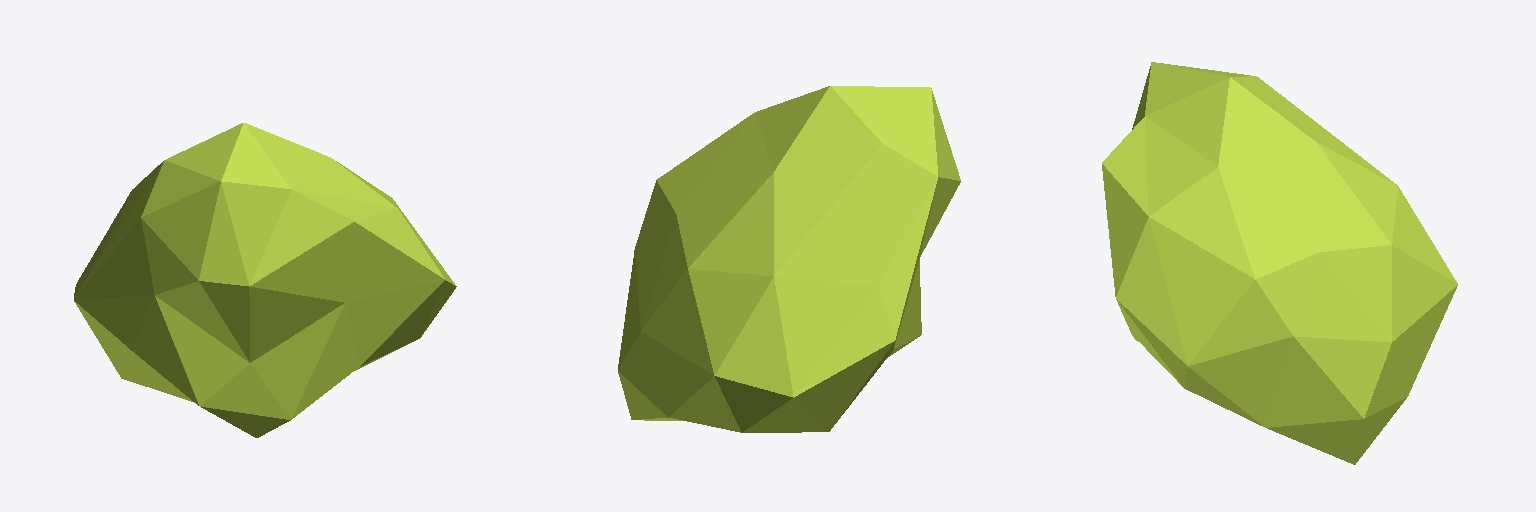
The model's file is Rock8.obj.
3 renders of one model, left to right at view 1: azimuth 30°, elevation 25°; view 2: azimuth 150°, elevation 25°; view 3: azimuth 270°, elevation 25°, orthographic.
Parts seen in each view (by area): view 1: GeoSphere001; view 2: GeoSphere001; view 3: GeoSphere001.
Part boxes in pixels (x1,y1,x2,y2): GeoSphere001: (74,123,456,437); GeoSphere001: (618,86,960,432); GeoSphere001: (1102,62,1457,464).
Size of the model in its own units: 2.09 by 2.08 by 2.09.